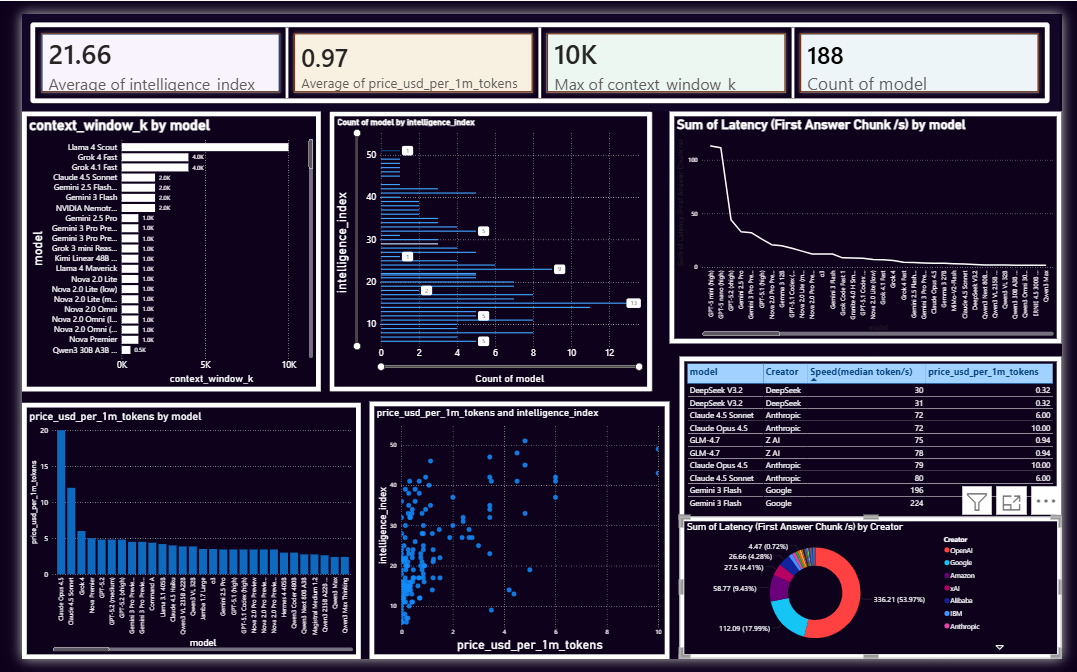

This screenshot's page, from the dashboard's own definition file:
{"tool":"powerbi","page":{"name":"Page 1","canvas":[2080,1290],"ordinal":0},"visuals":[{"type":"cardVisual","fields":{"Data":["Avg(cleaned_output1.intelligence_index)","Avg(cleaned_output1.price_usd_per_1m_tokens)","Max(cleaned_output1.context_window_k)","CountNonNull(cleaned_output1.model)"]},"box":[10,0,2070,195],"z":0},{"type":"barChart","fields":{"Y":["CountNonNull(cleaned_output1.model)"],"Category":["cleaned_output1.intelligence_index"]},"box":[10,195,665,515],"z":1000},{"type":"clusteredColumnChart","fields":{"Category":["cleaned_output1.model"],"Y":["Sum(cleaned_output1.price_usd_per_1m_tokens)"]},"box":[8,735,663,515],"z":2000},{"type":"clusteredBarChart","fields":{"Category":["cleaned_output1.model"],"Y":["Sum(cleaned_output1.context_window_k)"]},"box":[670,195,587.5,515],"z":3000},{"type":"scatterChart","fields":{"X":["cleaned_output1.price_usd_per_1m_tokens"],"Y":["cleaned_output1.intelligence_index"]},"box":[672,735,588,515],"z":4000},{"type":"lineChart","fields":{"Category":["cleaned_output1.model"],"Y":["Sum(cleaned_output1.Latency (First Answer Chunk /s))"]},"box":[1260,210,820,515],"z":5000}]}

Visuals, with their boxes in screenshot pixels (x1, y1, x2, y2), scaled from the page's 2080x1290 canvas onto the 1077x672 screenshot:
cardVisual - Avg(cleaned_output1.intelligence_index) x Avg(cleaned_output1.price_usd_per_1m_tokens): (x1=5, y1=0, x2=1076, y2=102)
barChart - CountNonNull(cleaned_output1.model) x cleaned_output1.intelligence_index: (x1=5, y1=102, x2=350, y2=370)
clusteredColumnChart - cleaned_output1.model x Sum(cleaned_output1.price_usd_per_1m_tokens): (x1=4, y1=383, x2=347, y2=651)
clusteredBarChart - cleaned_output1.model x Sum(cleaned_output1.context_window_k): (x1=347, y1=102, x2=651, y2=370)
scatterChart - cleaned_output1.price_usd_per_1m_tokens x cleaned_output1.intelligence_index: (x1=348, y1=383, x2=652, y2=651)
lineChart - cleaned_output1.model x Sum(cleaned_output1.Latency (First Answer Chunk /s)): (x1=652, y1=109, x2=1076, y2=378)
